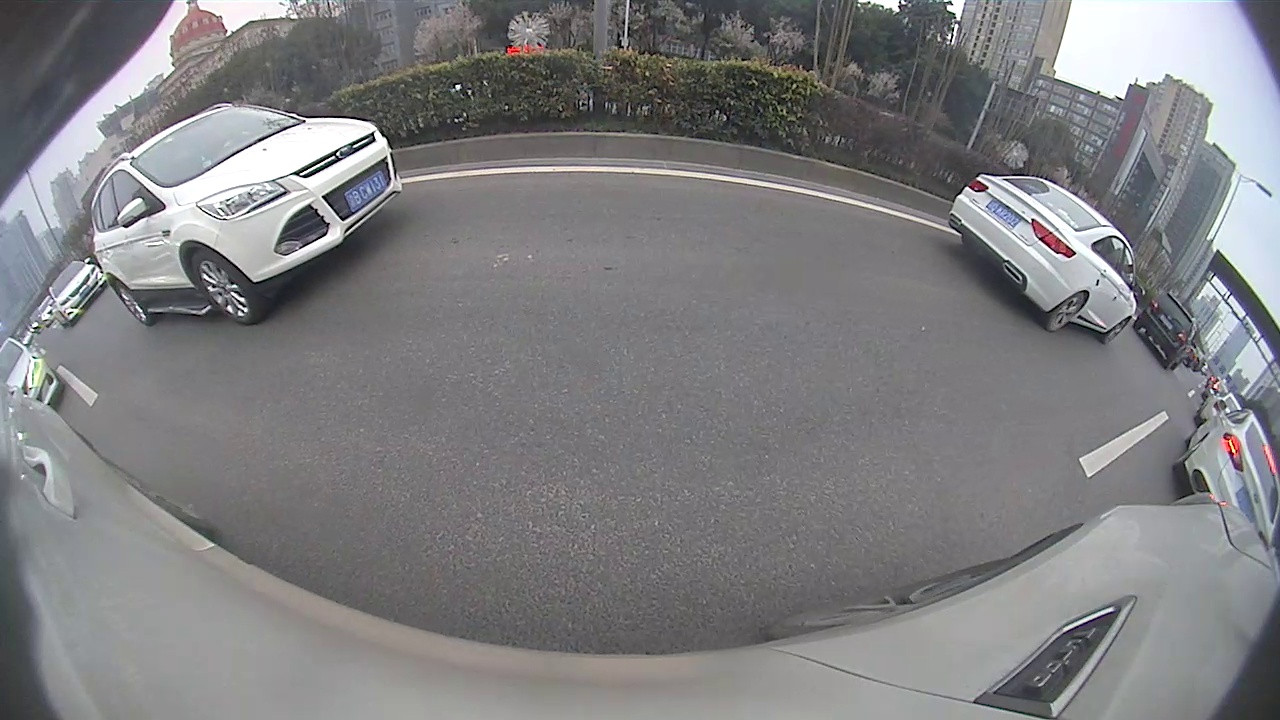car: (89, 101, 405, 331), (946, 171, 1147, 345), (1172, 399, 1278, 546), (1132, 290, 1201, 371), (1, 337, 67, 410), (46, 257, 107, 328)
front: (195, 256, 258, 325), (1106, 314, 1133, 346)
rear: (112, 275, 154, 327), (1045, 292, 1089, 334)
